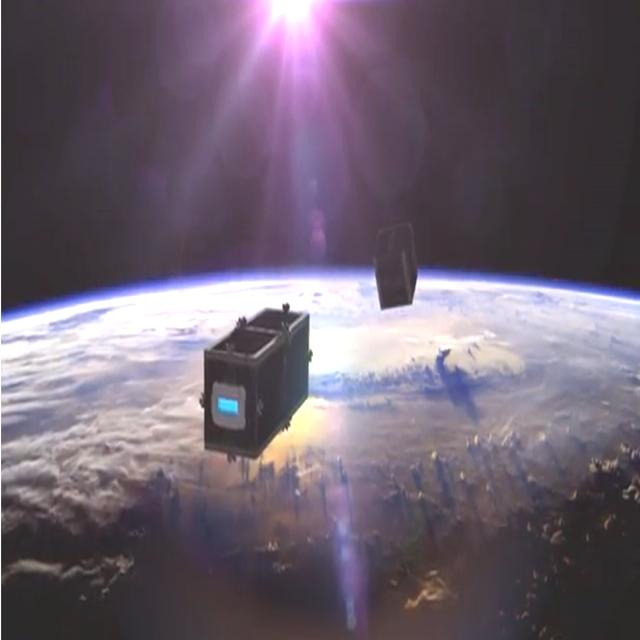large_debris: (369, 212, 426, 316)
satellite: (185, 279, 324, 476)
